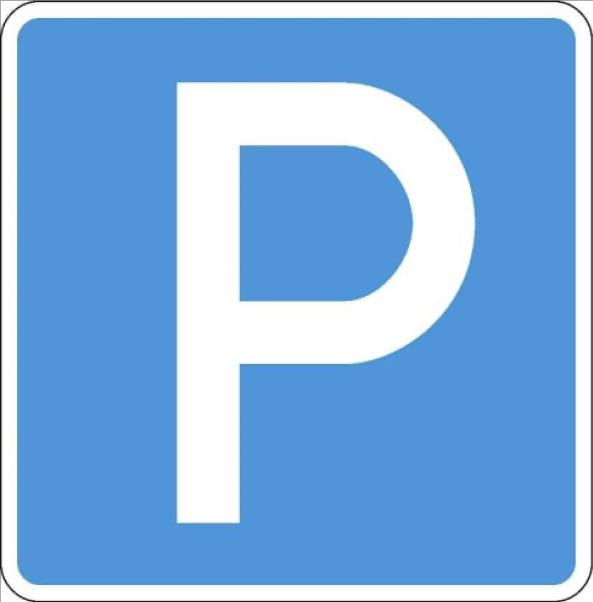parking_spot: (25, 8, 572, 573)
